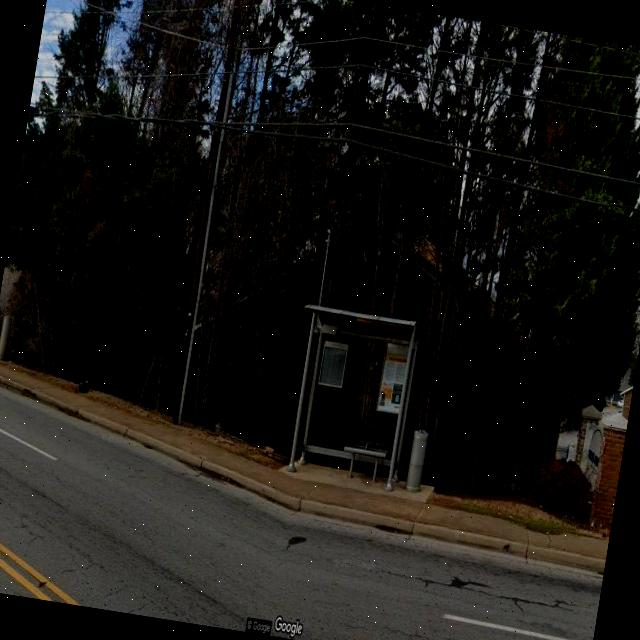seating: (338, 438, 389, 486)
shelter: (278, 302, 422, 495)
trash_can: (404, 428, 430, 492)
